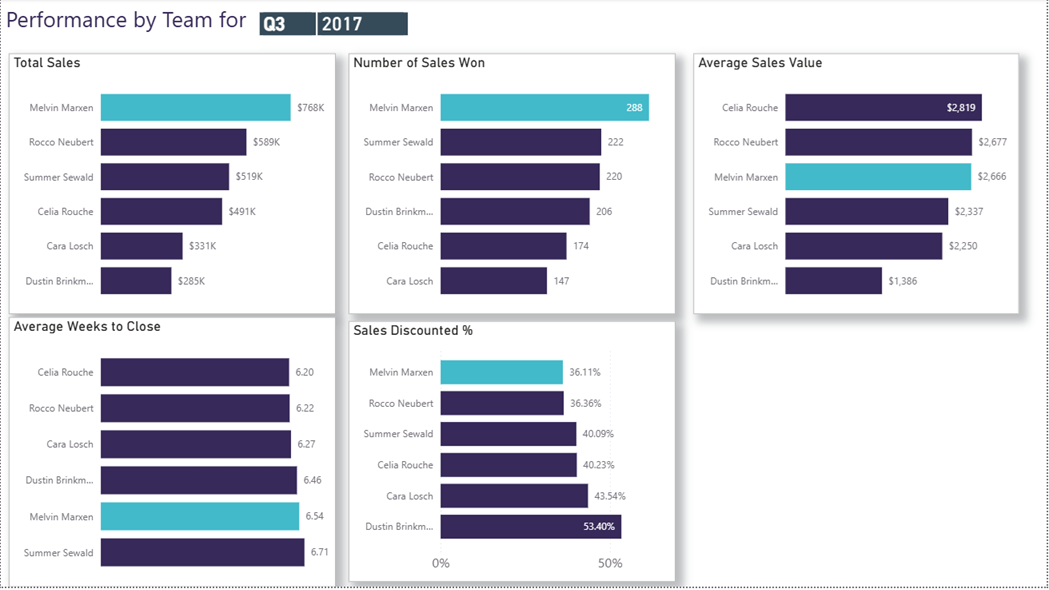

The page's visual inventory and layout, read from the dashboard file:
{"tool":"powerbi","page":{"name":"Performance by Teams","canvas":[1280,720],"ordinal":2},"visuals":[{"type":"clusteredBarChart","title":"Total Sales","fields":{"Y":["Sum(db_sales_pipeline.Close_value)"],"Category":["db_sales_teams.Manager"]},"box":[9.8,67.3,399.9,319.2],"z":0},{"type":"clusteredBarChart","title":"Number of Sales Won","fields":{"Category":["db_sales_teams.Manager"],"Y":["CountNonNull(db_sales_pipeline.Opportunity_id)"]},"box":[425.5,67.3,399.9,319.2],"z":2000},{"type":"clusteredBarChart","title":"Average Sales Value","fields":{"Category":["db_sales_teams.Manager"],"Y":["Measure.Average Sales"]},"box":[847.4,67.3,398.6,319.2],"z":3000},{"type":"clusteredBarChart","title":"Average Weeks to Close","fields":{"Category":["db_sales_teams.Manager"],"Y":["Measure.Average Weeks To Close"]},"box":[9.8,390.1,399.9,330.2],"z":4000},{"type":"textbox","box":[1.4,1.3,316,60.6],"z":7000},{"type":"textbox","box":[316.7,16.9,68.5,28],"z":8000},{"type":"textbox","box":[387.6,16.9,110.1,28.1],"z":9000},{"type":"clusteredBarChart","title":"Sales Discounted %","fields":{"Y":["Measure.Sales Discount %"],"Category":["db_sales_teams.Manager"]},"box":[425.6,395.3,399.6,318.9],"z":10000}]}

Visuals, with their boxes in screenshot pixels (x1, y1, x2, y2), scaled from the page's 1280x720 canvas onto the 1049x590 screenshot:
"Total Sales" clusteredBarChart: [left=8, top=55, right=336, bottom=317]
"Number of Sales Won" clusteredBarChart: [left=349, top=55, right=676, bottom=317]
"Average Sales Value" clusteredBarChart: [left=694, top=55, right=1021, bottom=317]
"Average Weeks to Close" clusteredBarChart: [left=8, top=320, right=336, bottom=589]
textbox: [left=1, top=1, right=260, bottom=51]
textbox: [left=260, top=14, right=316, bottom=37]
textbox: [left=318, top=14, right=408, bottom=37]
"Sales Discounted %" clusteredBarChart: [left=349, top=324, right=676, bottom=585]
